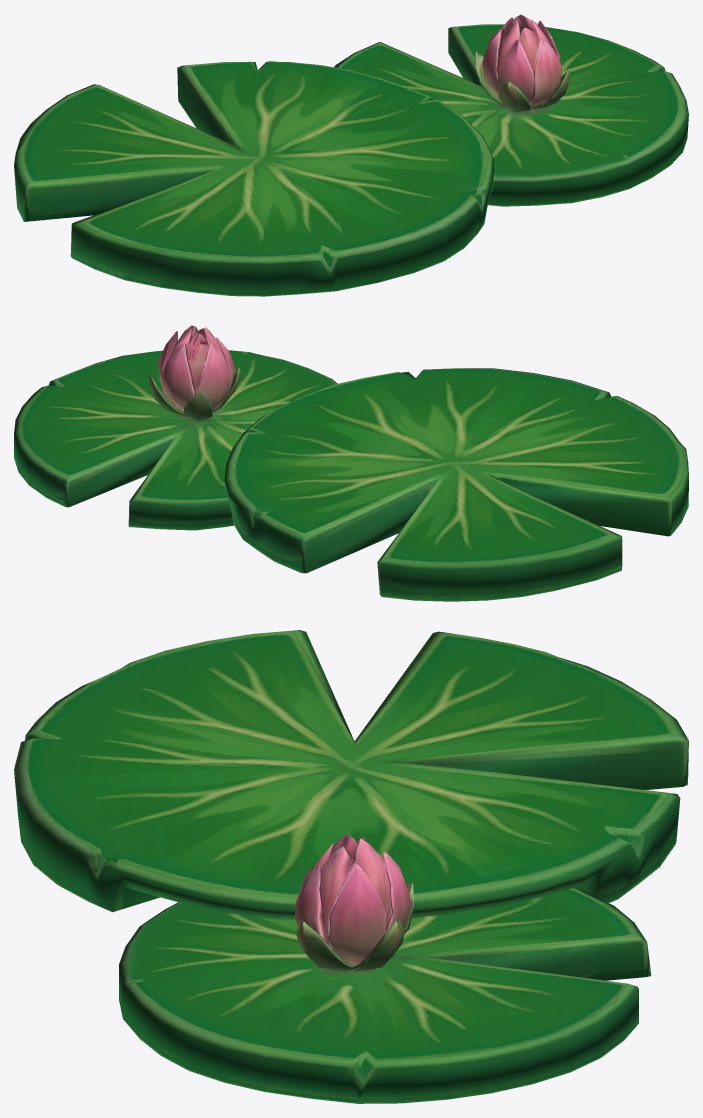
Rendered from LilyTwin.glb.
The picture shows the model from 3 angles, top to bottom: view 1: azimuth 30°, elevation 25°; view 2: azimuth 150°, elevation 25°; view 3: azimuth 270°, elevation 25°; orthographic projection. The views are drawn at different scales.
Size of the model in its own units: 0.9575 by 0.1743 by 0.6475.
Materials: 1 (1 with a texture image).
